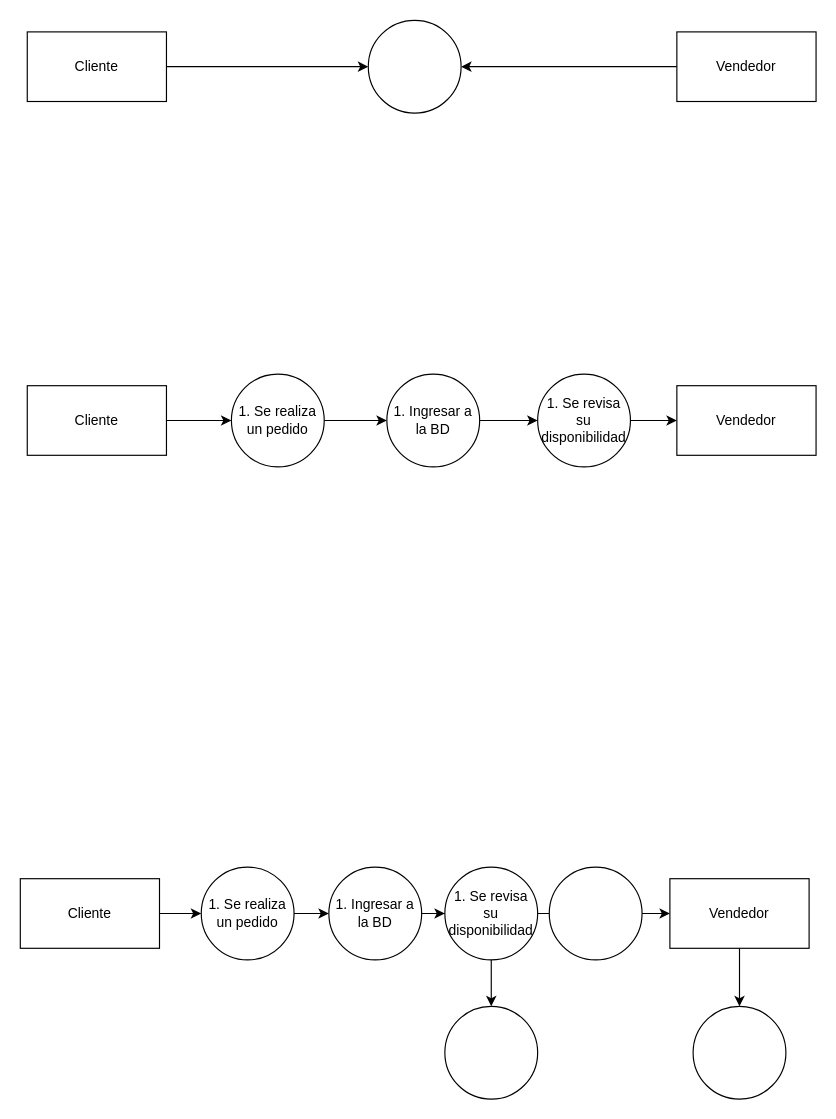
Some shapes in this 836 by 1119 pixel diagram are drawn without their labels. The shapes that lost their labels are listed below. From the top down, each one's centre as x and y in pixels, then its label:
At [414,66]: "Sistema de BD".
At [595,913]: "2. Se guarda la info de la compra".
At [491,1052]: "2. Se actualiza el estado del producto".
At [739,1052]: "2. Se entrega el pedido".
